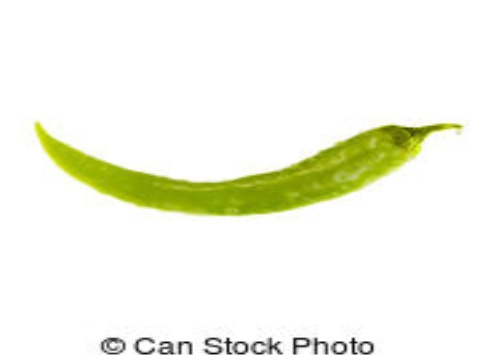Chilli: (27, 103, 466, 223)
